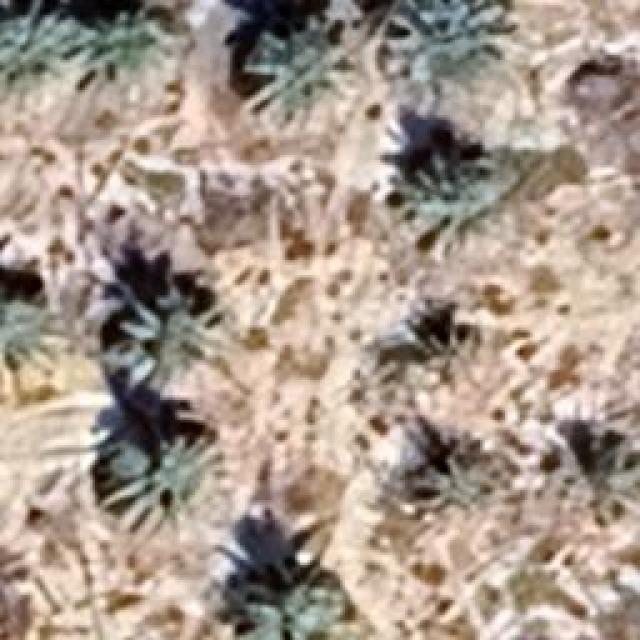PalmTree: (95, 430, 230, 542), (110, 290, 230, 398), (230, 14, 353, 119), (391, 134, 491, 234), (390, 0, 512, 60), (408, 440, 500, 518), (82, 0, 159, 92), (394, 302, 482, 376), (575, 428, 640, 524), (240, 590, 358, 638), (0, 0, 70, 80), (0, 257, 50, 365), (72, 88, 76, 90)
